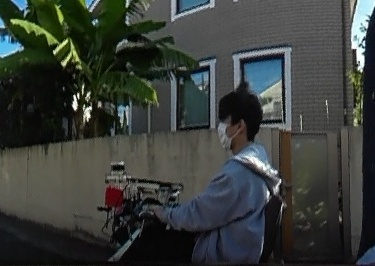person: (186, 92, 268, 266)
